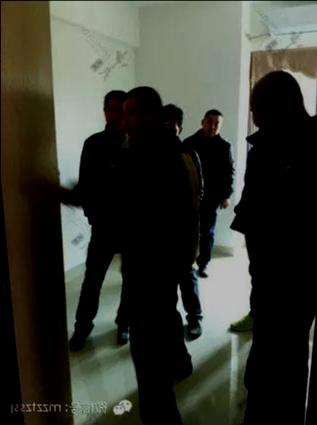no_helmet: (242, 68, 308, 141), (122, 82, 163, 141), (99, 84, 130, 135), (157, 100, 186, 140), (198, 105, 227, 134)
